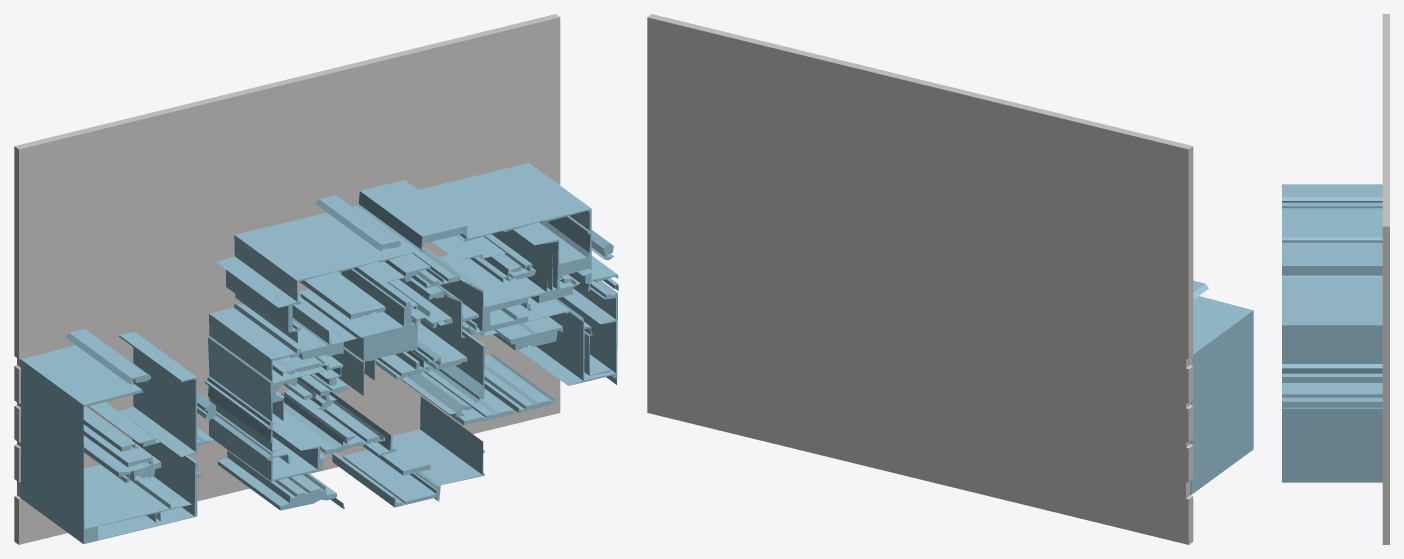
The picture shows the model from 3 angles, left to right: view 1: azimuth 30°, elevation 25°; view 2: azimuth 150°, elevation 25°; view 3: azimuth 270°, elevation 25°; orthographic projection. The views are drawn at different scales.
Parts seen in each view (by area): view 1: world; view 2: world; view 3: world.
Part boxes in pixels (x1,y1,x2,y2): world: (14, 14, 618, 544); world: (647, 14, 1253, 544); world: (1282, 14, 1389, 544).
Size of the model in its own units: 10.23 by 7.14 by 2.2.
